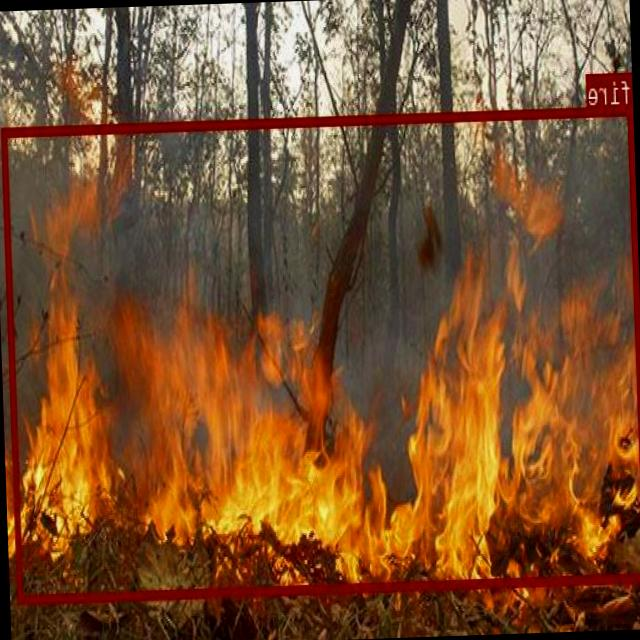fire: (3, 104, 640, 602)
